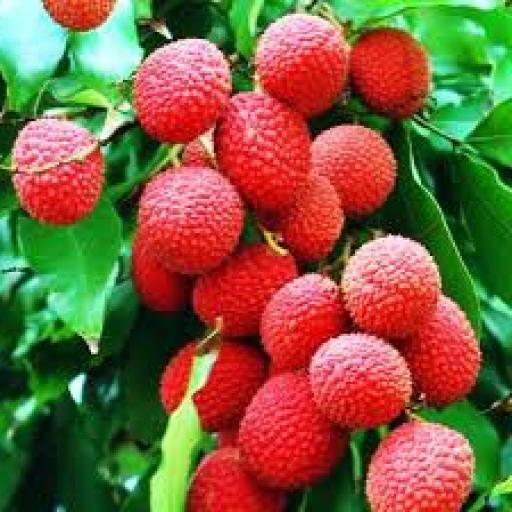lychee: (238, 373, 347, 489), (213, 92, 308, 214), (138, 167, 242, 274), (341, 236, 438, 338), (134, 39, 231, 141), (193, 245, 297, 338), (309, 334, 410, 429), (11, 119, 103, 223), (366, 421, 472, 511), (254, 14, 347, 116), (400, 295, 479, 406), (259, 275, 347, 372), (311, 126, 394, 217), (350, 28, 429, 118), (193, 341, 265, 431), (186, 448, 283, 511), (275, 174, 342, 262), (131, 236, 190, 313), (43, 0, 115, 31), (182, 135, 215, 166), (216, 428, 237, 447)
